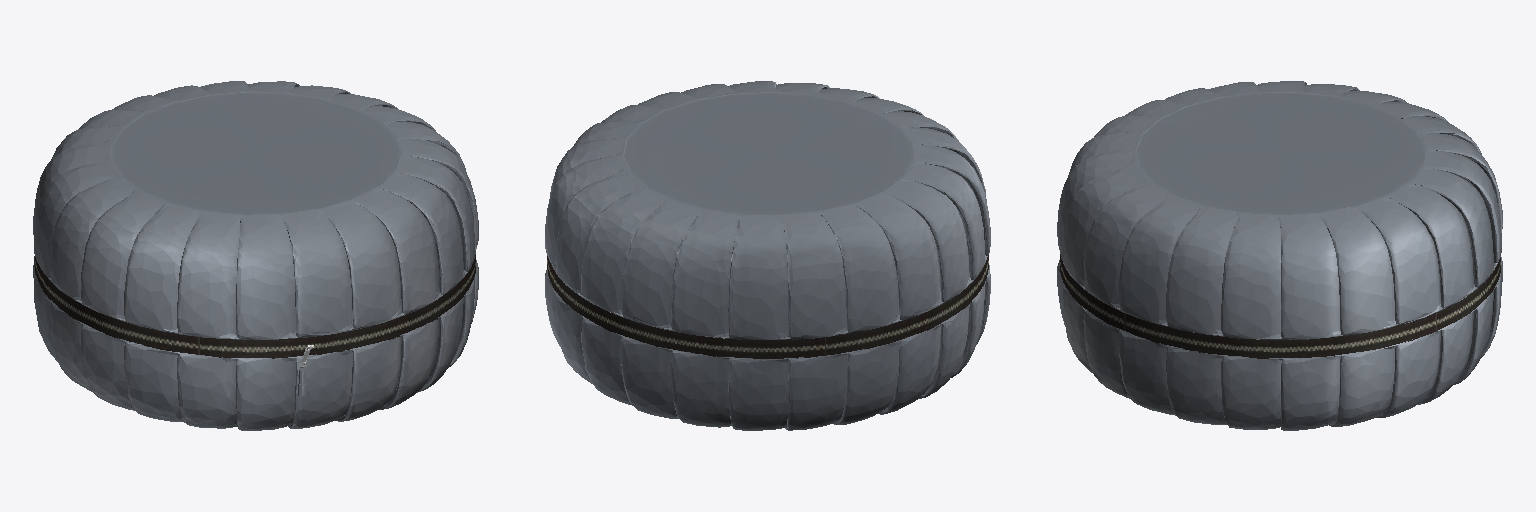
The picture shows the model from 3 angles: view 1: azimuth 30°, elevation 25°; view 2: azimuth 150°, elevation 25°; view 3: azimuth 270°, elevation 25°; orthographic projection.
Parts seen in each view (by area): view 1: solid_001, solid_003; view 2: solid_001, solid_003; view 3: solid_001, solid_003.
Boxes of the visible parts, x1=… form: solid_001: x1=33, y1=81, x2=478, y2=430; solid_003: x1=35, y1=254, x2=475, y2=358; solid_001: x1=545, y1=81, x2=990, y2=430; solid_003: x1=547, y1=203, x2=988, y2=358; solid_001: x1=1057, y1=81, x2=1502, y2=430; solid_003: x1=1060, y1=254, x2=1500, y2=358.
Bounding box in the file's own units: 1.98 × 1.01 × 1.98.
Materials: 1 (1 with a texture image).